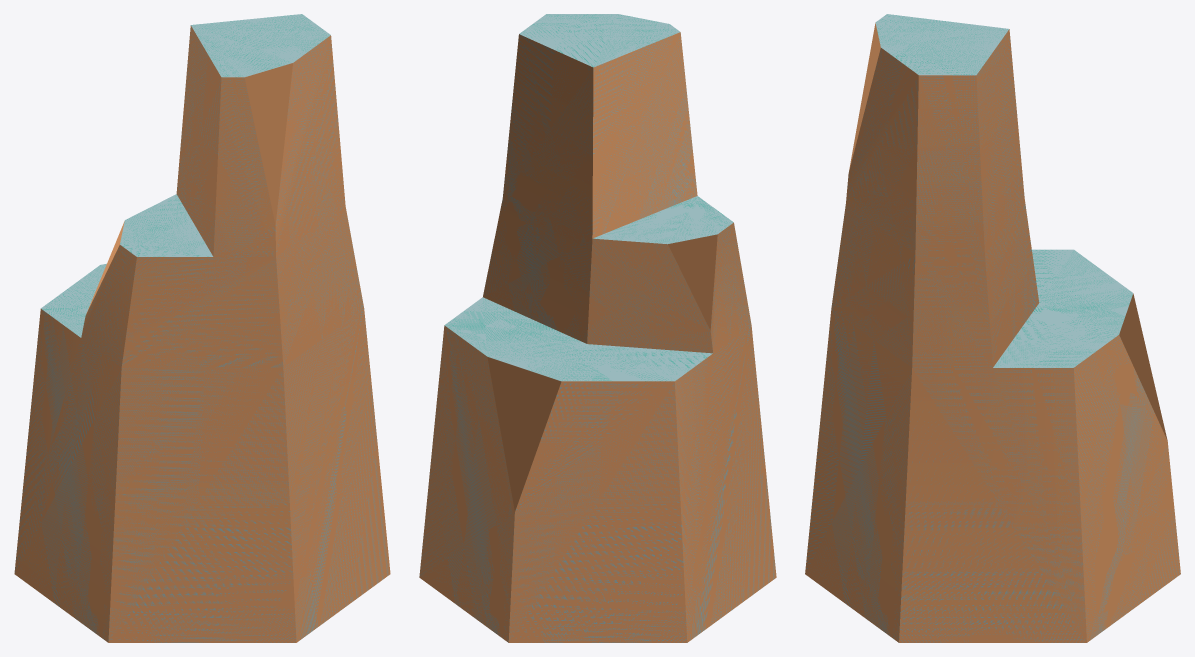
Rendered from rock_tall7.obj.
3 renders of one model, left to right at view 1: azimuth 30°, elevation 25°; view 2: azimuth 150°, elevation 25°; view 3: azimuth 270°, elevation 25°, orthographic. The views are drawn at different scales.
Parts seen in each view (by area): view 1: rock_tall7; view 2: rock_tall7; view 3: rock_tall7.
Boxes of the visible parts, x1,y1,x2,y2 form: rock_tall7: (14,14,390,642); rock_tall7: (419,14,776,642); rock_tall7: (805,14,1180,642).
Size of the model in its own units: 4.25 by 7.83 by 4.91.
